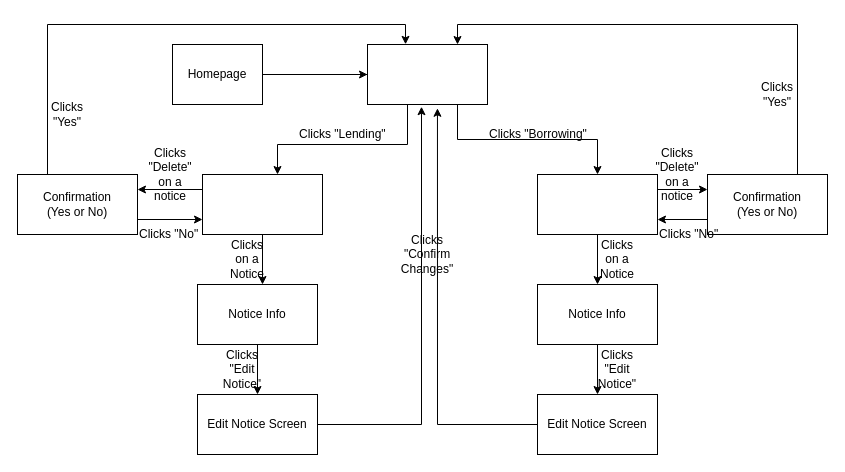
Some shapes in this 845 by 472 pixel diagram are drawn without their labels. Each missing label, with the centre of its shape:
"My Borrowing Notices" belongs at point 597,204.
"My Lending Notices" belongs at point 262,204.
"My Notices Page" belongs at point 427,74.
